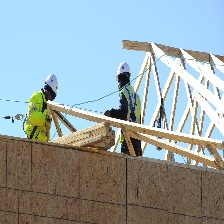helmet: (116, 62, 133, 85), (44, 71, 59, 97)
person: (22, 67, 61, 145), (115, 62, 143, 159)
vest: (24, 91, 53, 146)
